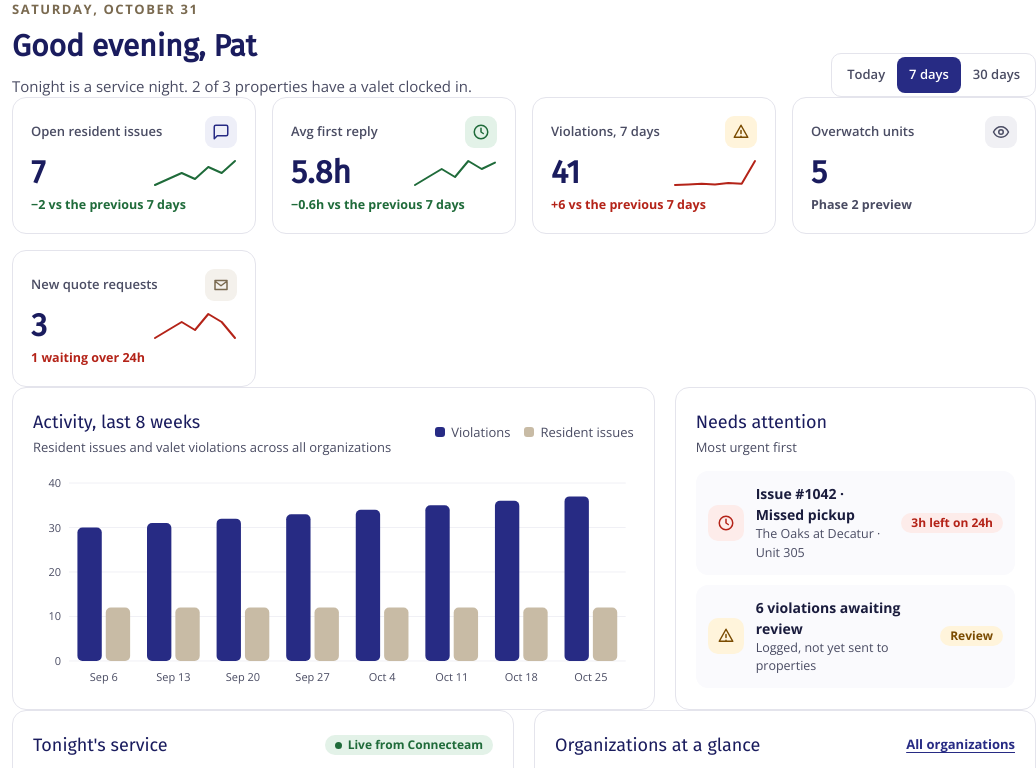
OverviewPage › keeps the range in the URL and reloads for it
Check: the text "Tonight is a service night" is shown, box [12, 76, 472, 96]
Click the button "30 days".
click(996, 75)  # box [961, 57, 1032, 93]
(page scrolled)
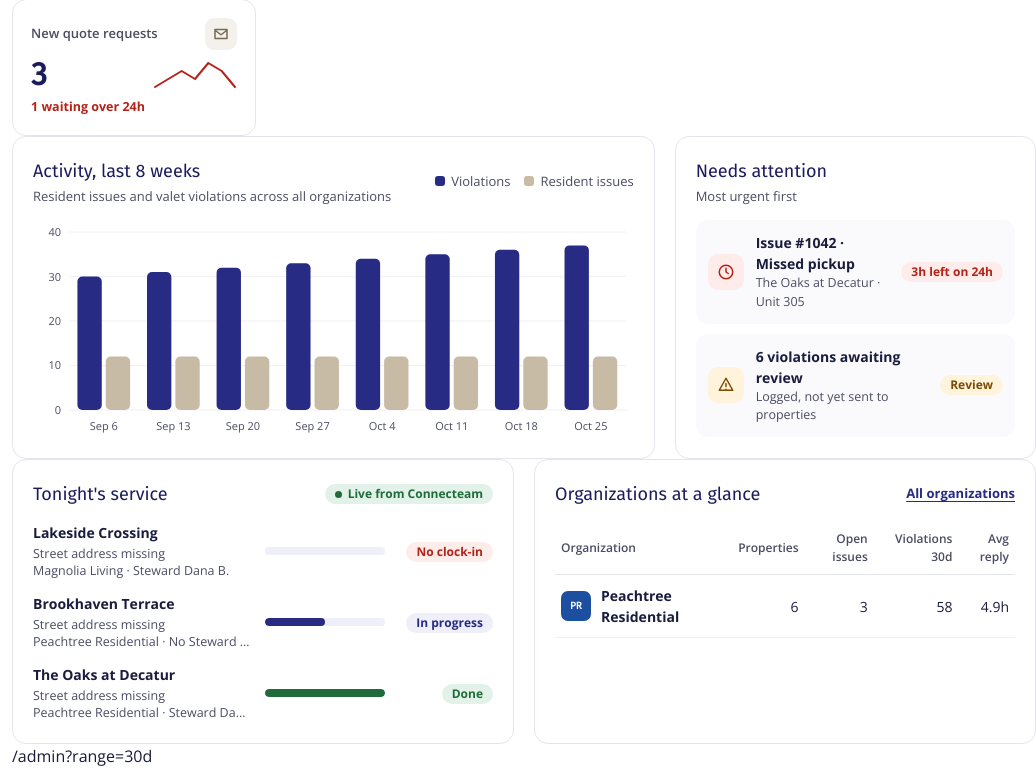
Check: the text with test id "location" reads "/admin?range=30d", box [12, 745, 152, 767]
